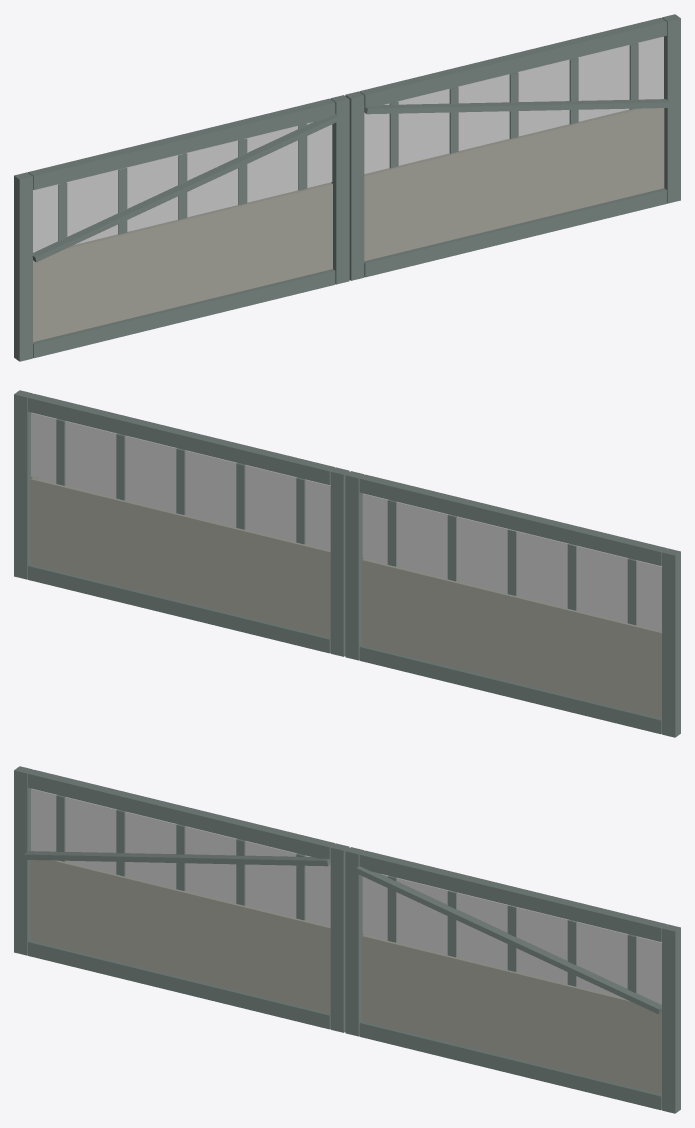
File: SM_PuertaVehiculos_v0_TuboChapa_e0_Sano_LOD1.fbx
3 renders of one model, top to bottom at view 1: azimuth 30°, elevation 25°; view 2: azimuth 150°, elevation 25°; view 3: azimuth 330°, elevation 25°, orthographic.
Visible parts, largest first — view 1: Hoja_O, Hoja_E; view 2: Hoja_O, Hoja_E; view 3: Hoja_E, Hoja_O.
Boxes of the visible parts, x1,y1,x2,y2 form: Hoja_O: [14, 95, 349, 361]; Hoja_E: [345, 14, 680, 280]; Hoja_O: [345, 471, 680, 737]; Hoja_E: [14, 390, 349, 656]; Hoja_E: [345, 847, 680, 1113]; Hoja_O: [14, 766, 349, 1032].
Size of what is drawn, in the model's own units: 7.98 by 2.1 by 0.18.
